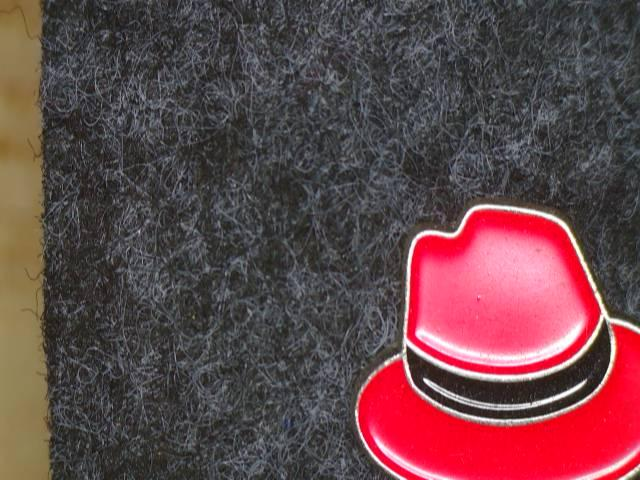Red-Hat: (323, 186, 640, 480)
